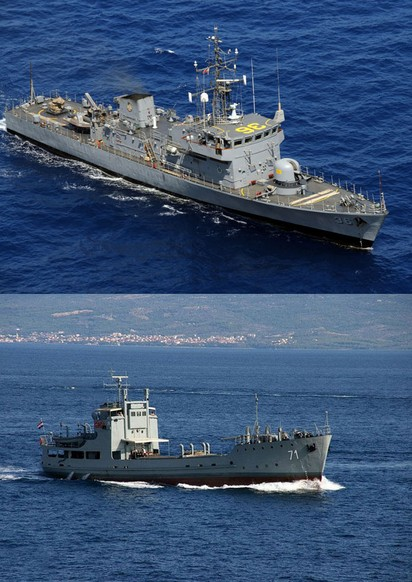otherboat: (19, 371, 339, 493)
warship: (2, 47, 395, 239)
